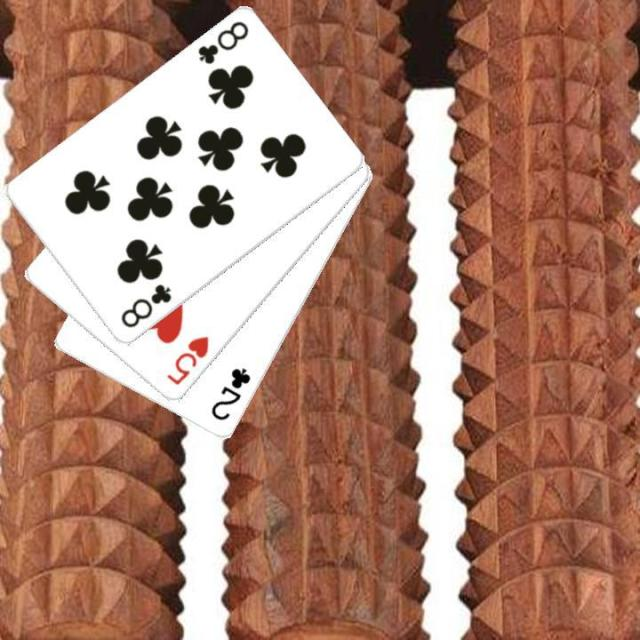2C: (207, 365, 253, 423)
5H: (162, 332, 212, 388)
8C: (116, 280, 174, 331), (193, 18, 251, 66)
